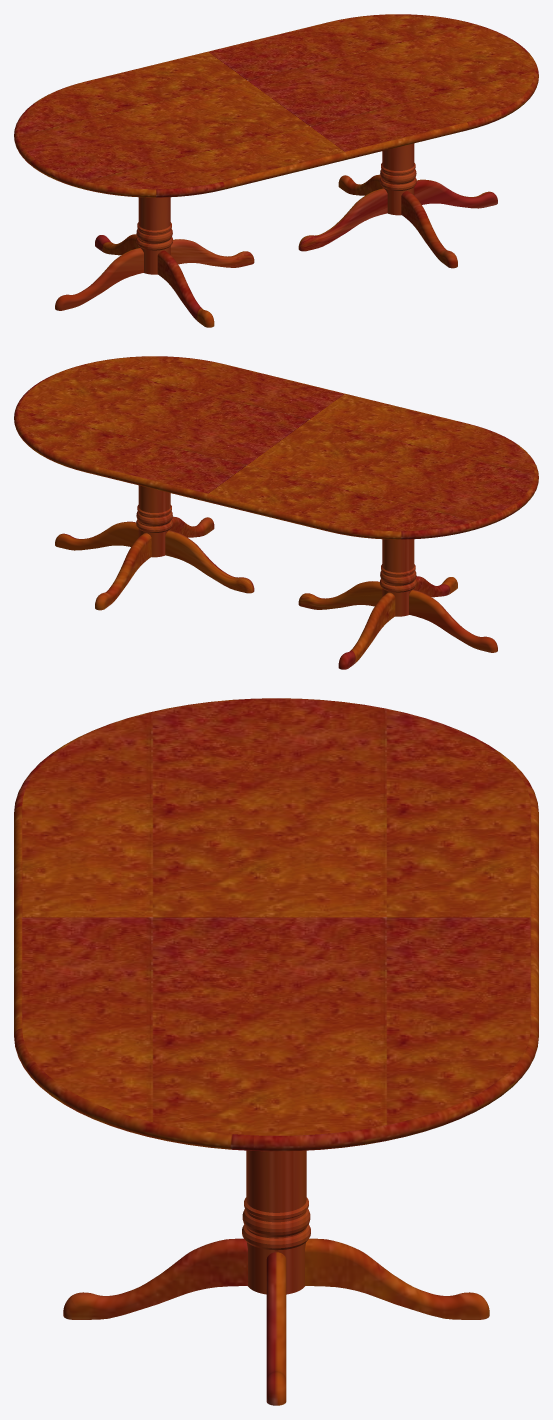
The model's file is Table 4.fbx.
3 renders of one model, top to bottom at view 1: azimuth 30°, elevation 25°; view 2: azimuth 150°, elevation 25°; view 3: azimuth 270°, elevation 25°, orthographic. The views are drawn at different scales.
Visible parts, largest first — view 1: Generic_Solid_3, Generic_Solid_5, Generic_Solid_4, Generic_Solid_2, Generic_Solid; view 2: Generic_Solid_3, Generic_Solid_5, Generic_Solid_4, Generic_Solid_2, Generic_Solid; view 3: Generic_Solid_3, Generic_Solid_5, Generic_Solid.
Part boxes in pixels (x1,y1,x2,y2): Generic_Solid_3: (14, 14, 538, 197); Generic_Solid_5: (298, 174, 497, 268); Generic_Solid_4: (55, 234, 254, 327); Generic_Solid_2: (136, 197, 172, 274); Generic_Solid: (380, 143, 416, 215); Generic_Solid_3: (14, 356, 538, 539); Generic_Solid_5: (55, 516, 254, 610); Generic_Solid_4: (298, 576, 497, 669); Generic_Solid_2: (380, 539, 416, 616); Generic_Solid: (136, 485, 172, 557); Generic_Solid_3: (14, 698, 538, 1151); Generic_Solid_5: (63, 1238, 489, 1405); Generic_Solid: (242, 1150, 310, 1294).
Bounding box in the file's own units: 2438 × 736 × 1219.
Materials: 1 (1 with a texture image).
